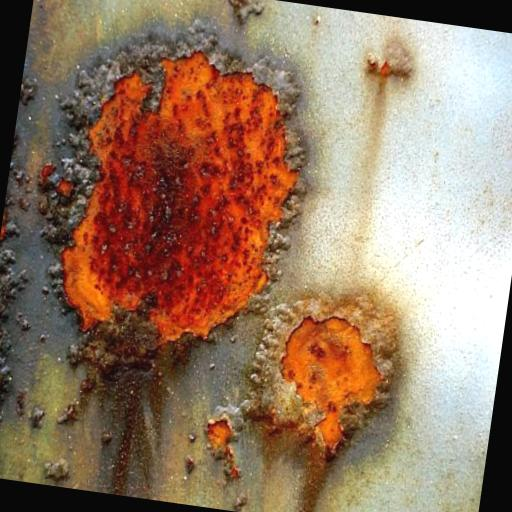corrosion: (37, 29, 322, 371), (222, 277, 407, 512), (29, 290, 201, 503), (204, 415, 238, 457), (364, 56, 410, 84), (57, 181, 72, 196)
